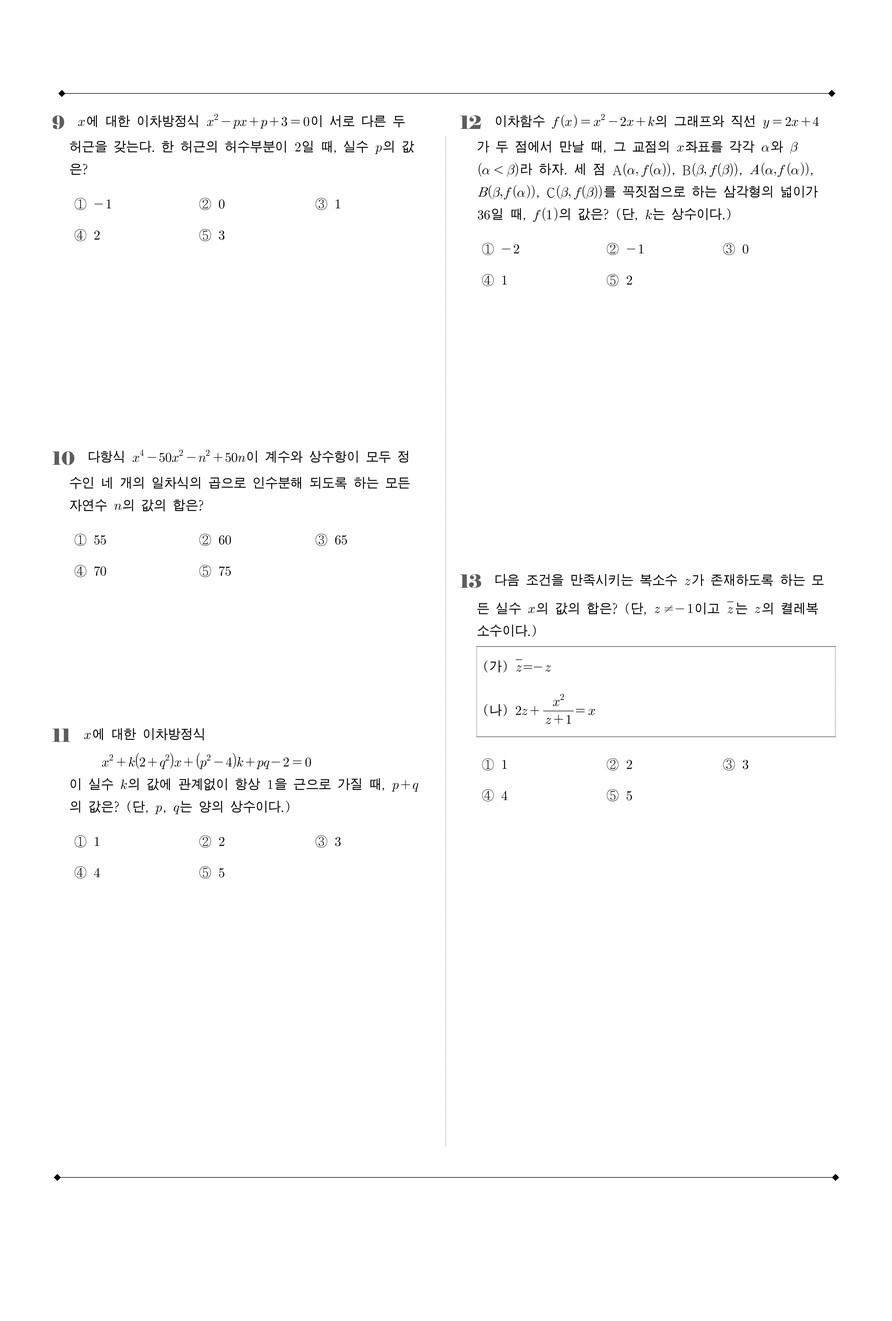problem: (455, 557, 848, 830), (459, 104, 835, 315), (19, 708, 429, 901), (43, 421, 436, 595), (36, 103, 432, 270)
